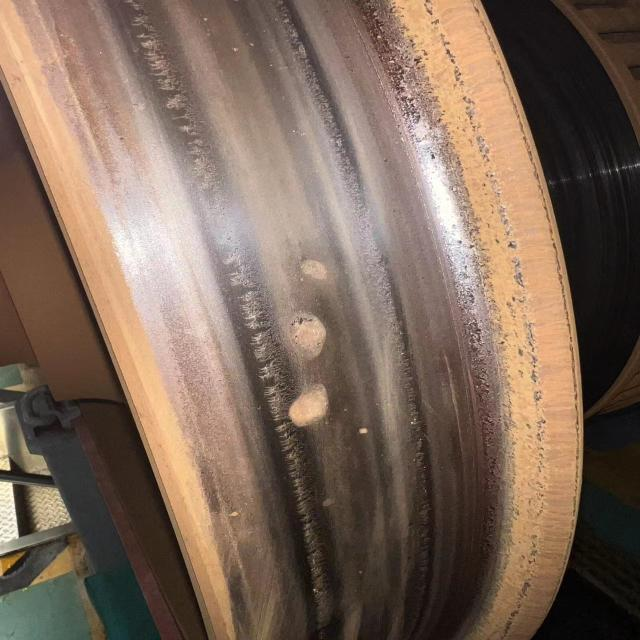geshang: (274, 310, 329, 360), (280, 383, 334, 427), (292, 253, 334, 284)
